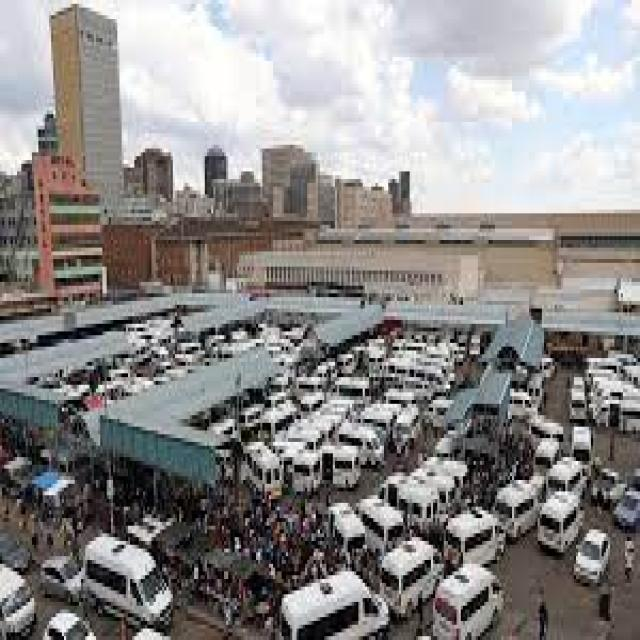MiniBus taxi: (83, 530, 173, 632), (431, 564, 512, 636), (378, 537, 443, 621), (536, 491, 586, 564), (2, 556, 36, 636)
Passenger Car: (570, 530, 612, 594)
